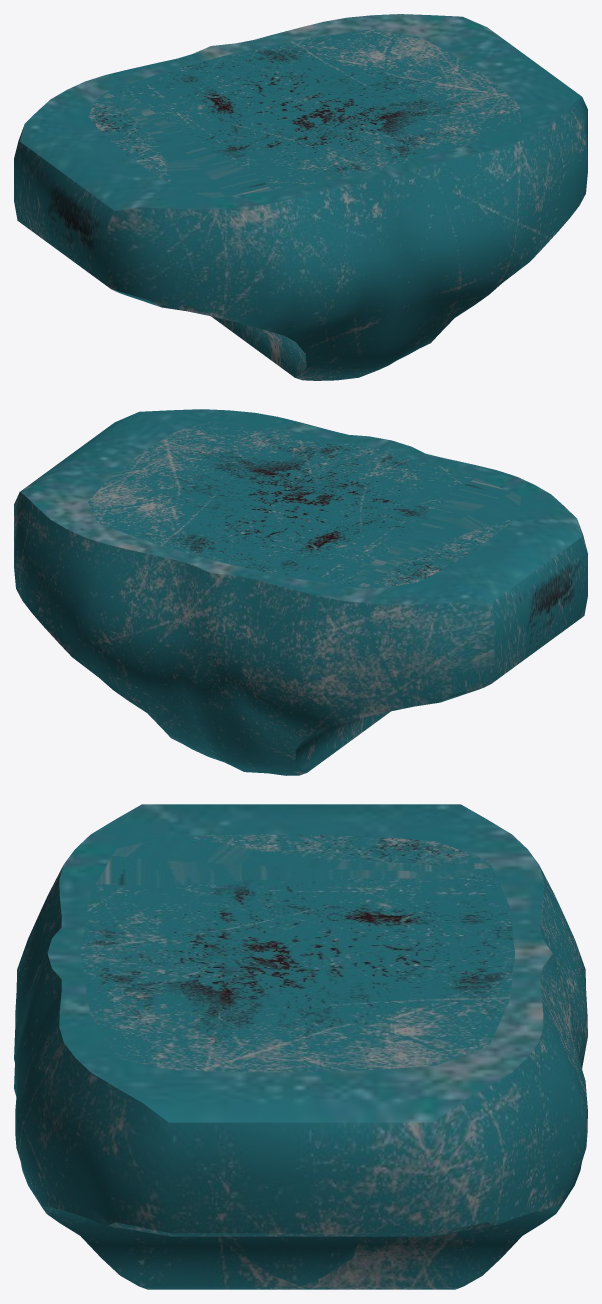
The model's file is Waist.FBX.
3 views of the same model, one above another, from view 1: azimuth 30°, elevation 25°; view 2: azimuth 150°, elevation 25°; view 3: azimuth 270°, elevation 25° (orthographic). The views are drawn at different scales.
Visible parts, largest first — view 1: waist; view 2: waist; view 3: waist.
Part boxes in pixels (box(x1,y1,x2,y2)): waist: box(14, 14, 587, 380); waist: box(14, 409, 587, 775); waist: box(14, 804, 587, 1289).
Size of the model in its own units: 47.19 by 20.97 by 35.01.
1 material, 1 textured.
